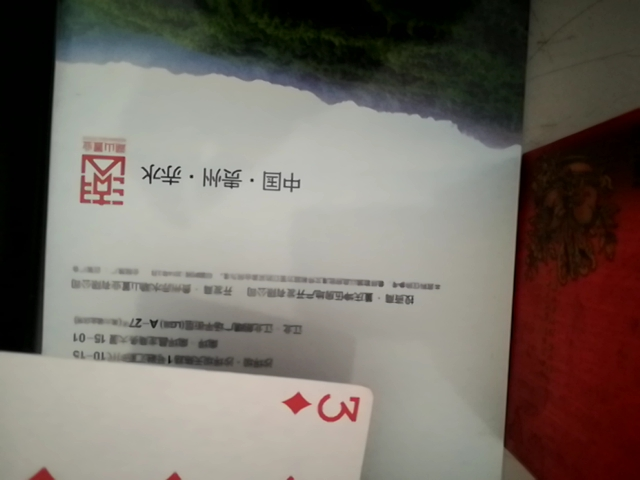fk 3: (0, 341, 386, 479)
